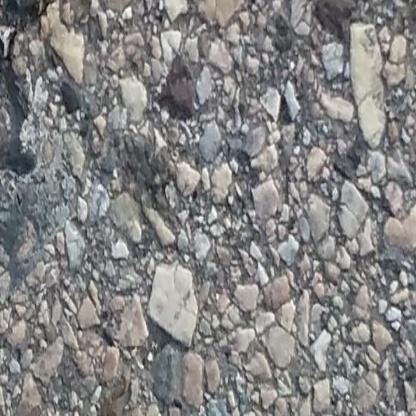Cracks: (0, 0, 108, 190)
